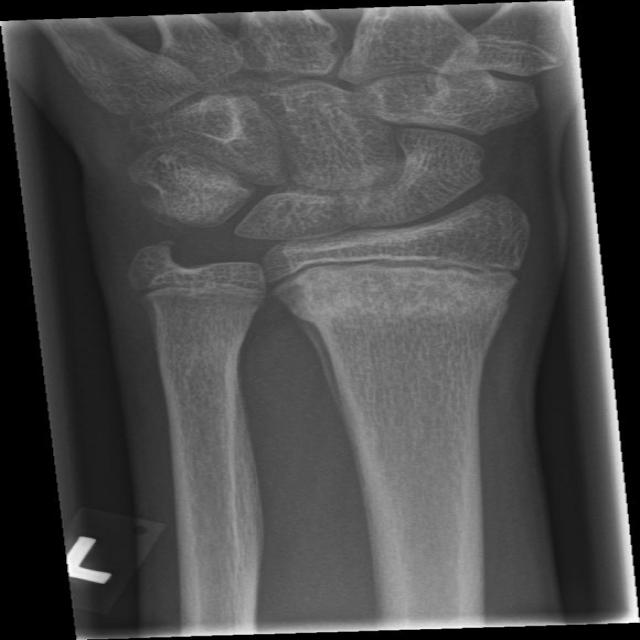fracture: (249, 237, 547, 310), (119, 256, 293, 315)
